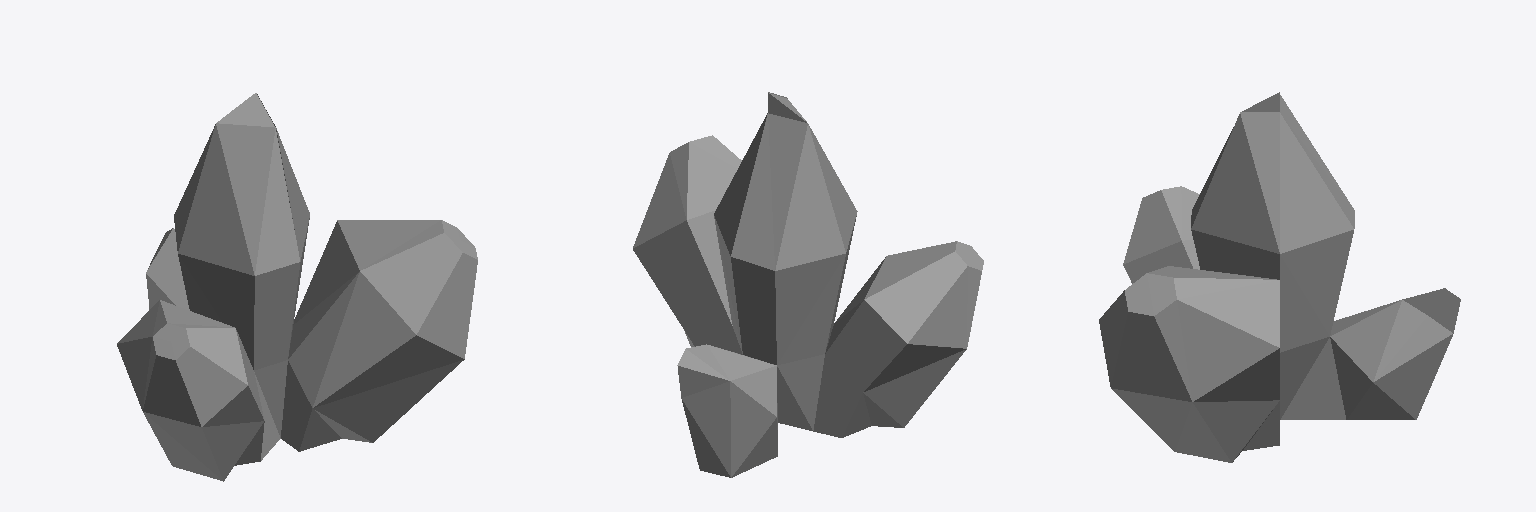
The model's file is crystal.obj.
3 views of the same model, side by side, from view 1: azimuth 30°, elevation 25°; view 2: azimuth 150°, elevation 25°; view 3: azimuth 270°, elevation 25° (orthographic).
Visible parts, largest first — view 1: Cube1_Cube1_auv; view 2: Cube1_Cube1_auv; view 3: Cube1_Cube1_auv.
Part boxes in pixels (x1,y1,x2,y2): Cube1_Cube1_auv: (117,93,477,481); Cube1_Cube1_auv: (633,92,983,477); Cube1_Cube1_auv: (1099,92,1460,462).
Size of the model in its own units: 1 by 1 by 1.